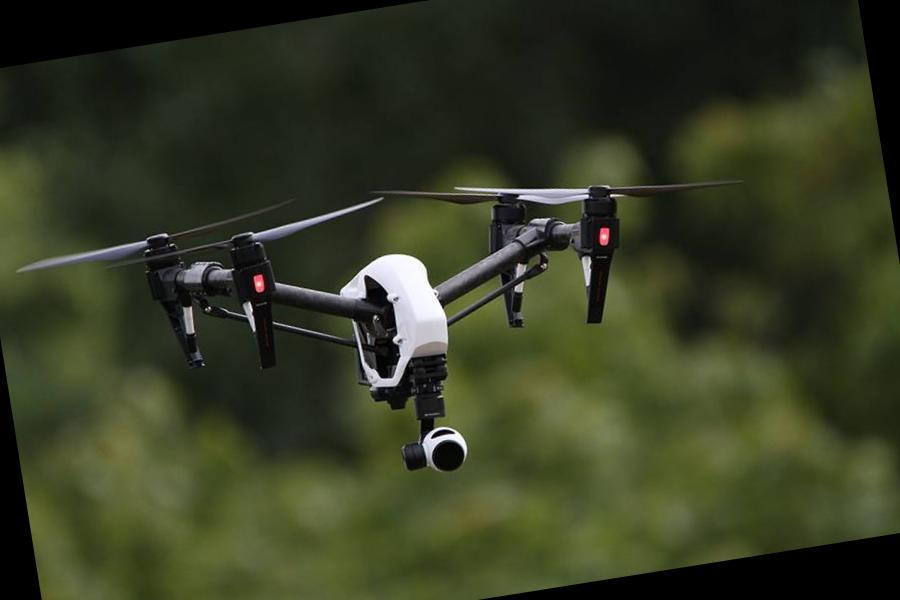drone: (46, 101, 716, 442)
